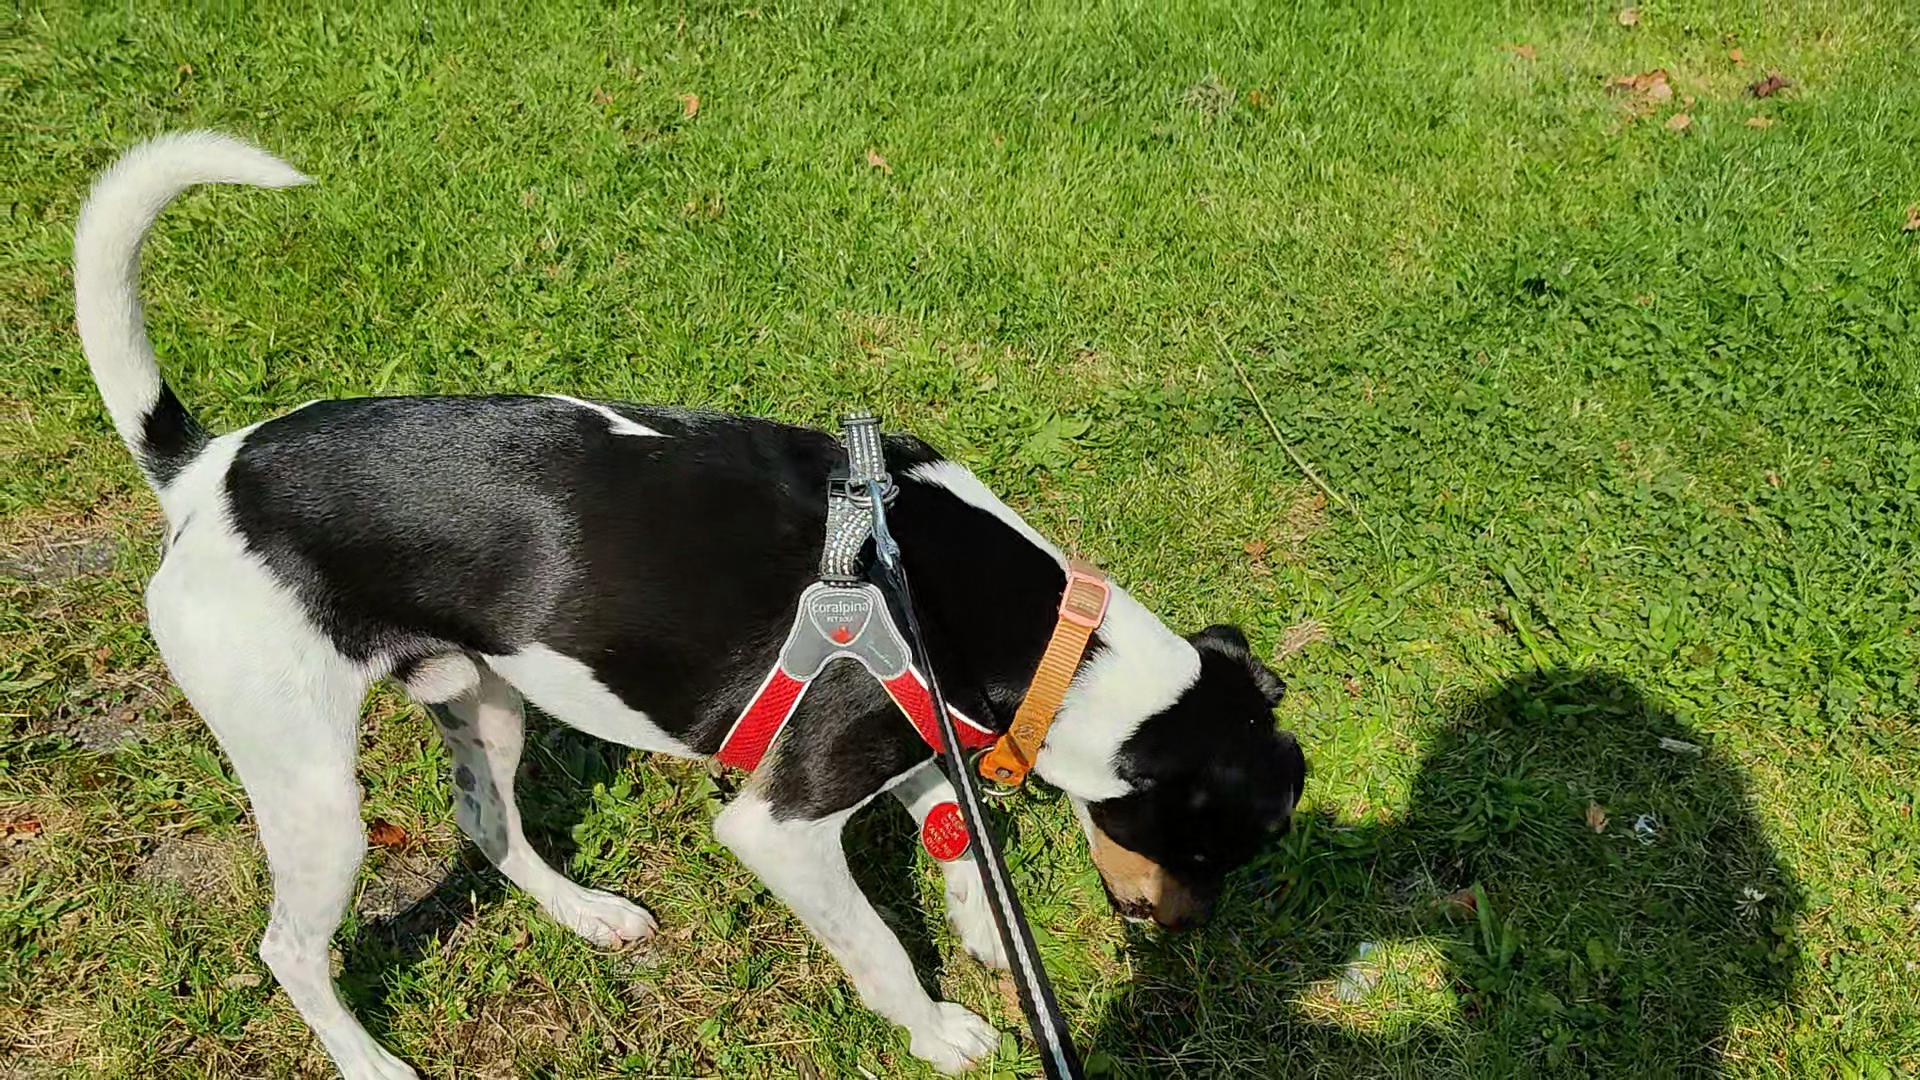Dog: (55, 117, 1307, 1079)
